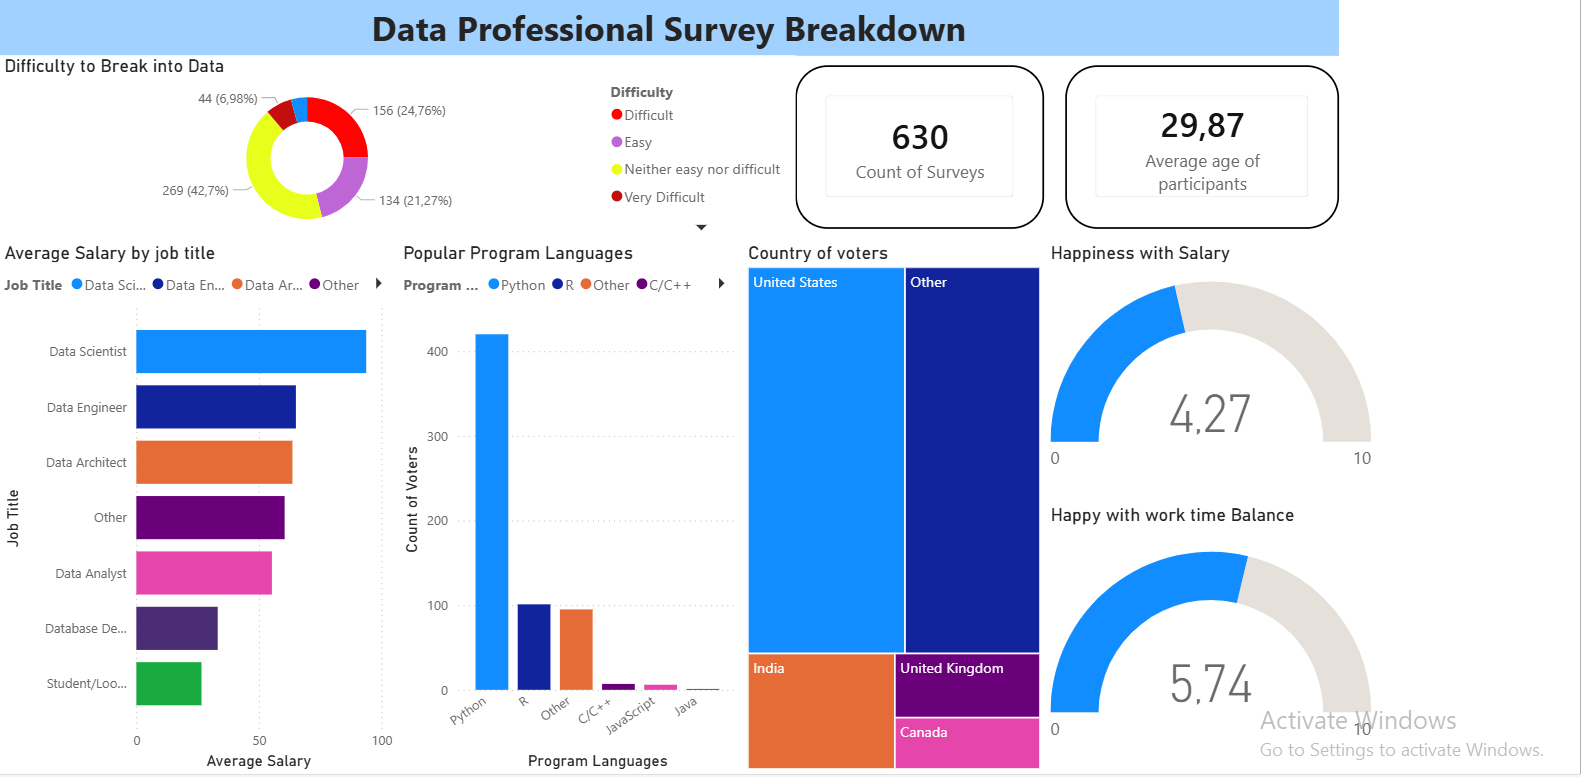

The dashboard page shown, as its layout file describes it:
{"tool":"powerbi","page":{"name":"Page 1","canvas":[1280,720],"ordinal":0},"visuals":[{"type":"textbox","box":[0,0,1244.8,52.6],"z":0},{"type":"cardVisual","fields":{"Data":["Count(Data Professional Survey.Unique ID)"]},"box":[739.8,61.1,231.1,151.6],"z":1},{"type":"cardVisual","fields":{"Data":["Avg(Data Professional Survey.Q10 - Current Age)"]},"box":[990.5,61.1,254.3,151.6],"z":2},{"type":"barChart","title":"Average Salary by job title","fields":{"Category":["Data Professional Survey.Q1 - Which Title Best Fits your Current Role?.1"],"Y":["Avg(Data Professional Survey.Average Salary)"],"Series":["Data Professional Survey.Q1 - Which Title Best Fits your Current Role?.1"]},"box":[0,225,370.5,495.2],"z":3},{"type":"columnChart","title":"Popular Program Languages","fields":{"Category":["Data Professional Survey.Q5 - Favorite Programming Language.1"],"Y":["CountNonNull(Data Professional Survey.Unique ID)"],"Series":["Data Professional Survey.Q5 - Favorite Programming Language.1"]},"box":[370.5,225,320.4,495.2],"z":4},{"type":"treemap","title":"Country of voters ","fields":{"Group":["Data Professional Survey.Q11 - Which Country do you live in?.1"],"Values":["CountNonNull(Data Professional Survey.Q11 - Which Country do you live in?.1)"]},"box":[690.9,225,281.3,495.2],"z":5},{"type":"gauge","title":"Happy with work time Balance","fields":{"Y":["Avg(Data Professional Survey.Q6 - How Happy are you in your Current Position with the following? (Work/Life Balance))"],"MaxValue":["Max(Data Professional Survey.Q6 - How Happy are you in your Current Position with the following? (Work/Life Balance))"],"MinValue":["Min(Data Professional Survey.Q6 - How Happy are you in your Current Position with the following? (Work/Life Balance))"]},"box":[972.2,469.6,308.2,250.7],"z":6},{"type":"gauge","title":"Happiness with Salary","fields":{"Y":["Avg(Data Professional Survey.Q6 - How Happy are you in your Current Position with the following? (Salary))"],"MinValue":["Min(Data Professional Survey.Q6 - How Happy are you in your Current Position with the following? (Salary))"],"MaxValue":["Max(Data Professional Survey.Q6 - How Happy are you in your Current Position with the following? (Salary))"]},"box":[972.2,225,308.2,236],"z":7},{"type":"donutChart","title":"Difficulty to Break into Data","fields":{"Series":["Data Professional Survey.Q7 - How difficult was it for you to break into Data?"],"Y":["CountNonNull(Data Professional Survey.Q7 - How difficult was it for you to break into Data?)"]},"box":[0,52.6,739.8,172.4],"z":8}]}

Visuals, with their boxes on the page's 1280x720 design canvas (x1, y1, x2, y2). These are canvas units, not pixel positions in the 1581x777 screenshot, which may show the page scaled, cropped or inside an application window:
textbox: <bbox>0, 0, 1245, 53</bbox>
cardVisual - Count(Data Professional Survey.Unique ID): <bbox>740, 61, 971, 213</bbox>
cardVisual - Avg(Data Professional Survey.Q10 - Current Age): <bbox>990, 61, 1245, 213</bbox>
"Average Salary by job title" barChart: <bbox>0, 225, 370, 720</bbox>
"Popular Program Languages" columnChart: <bbox>370, 225, 691, 720</bbox>
"Country of voters " treemap: <bbox>691, 225, 972, 720</bbox>
"Happy with work time Balance" gauge: <bbox>972, 470, 1280, 720</bbox>
"Happiness with Salary" gauge: <bbox>972, 225, 1280, 461</bbox>
"Difficulty to Break into Data" donutChart: <bbox>0, 53, 740, 225</bbox>
